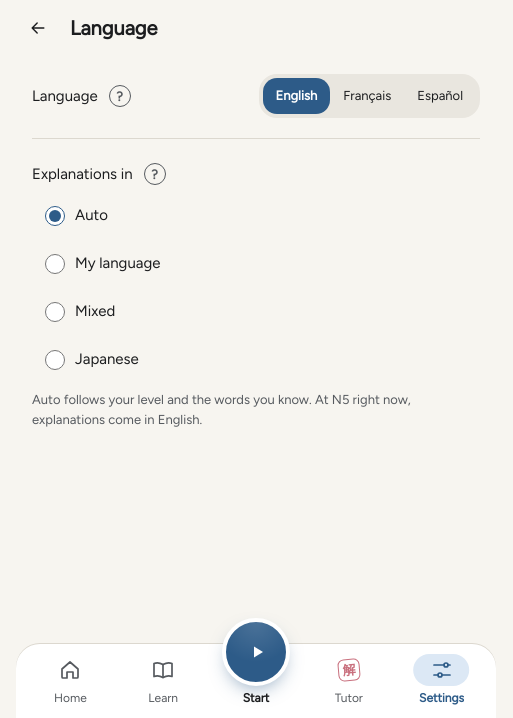
it: Settings in the learner language (N7b) › switches the whole screen when another language is chosen
Click the radio button labelled "Français" at (367, 96), box left=343, top=88, right=391, bottom=103
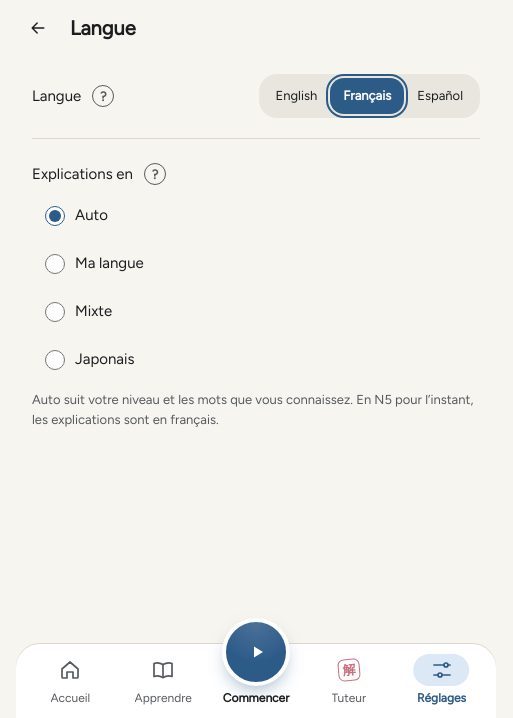
Check: the radio button labelled "Français" is checked, box left=330, top=78, right=404, bottom=114
Check: the heading "Langue" is shown, box left=70, top=16, right=136, bottom=40
